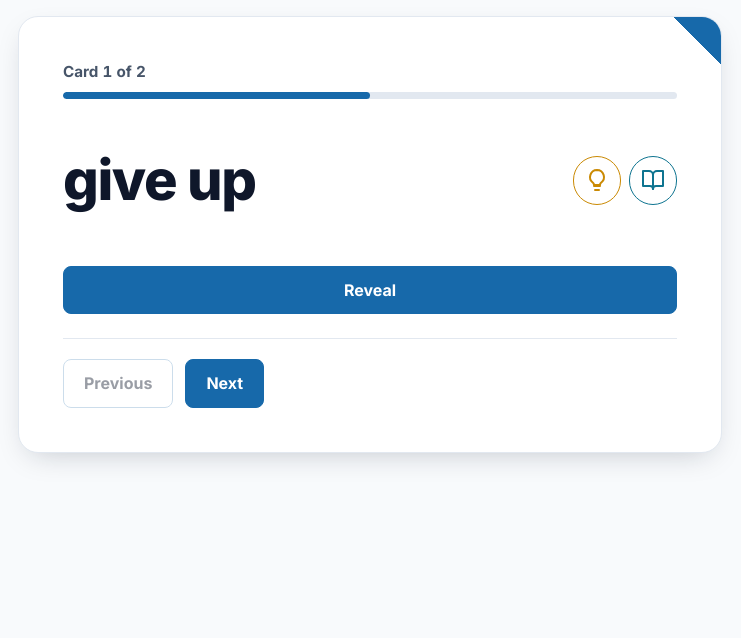
Test: Flashcard › shows session progress
The image size is (741, 638).
expect the text "Card 1 of 2" is shown: met, box x1=63 y1=62 x2=146 y2=81
Click the button "Reveal".
click(370, 290)  # box x1=63 y1=266 x2=677 y2=314
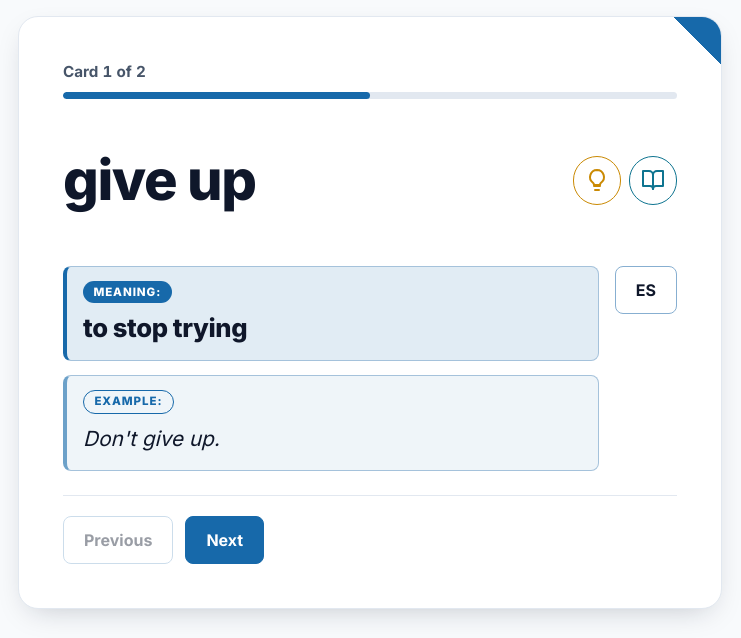
Click the button "Next".
click(225, 540)  # box x1=185 y1=516 x2=264 y2=564
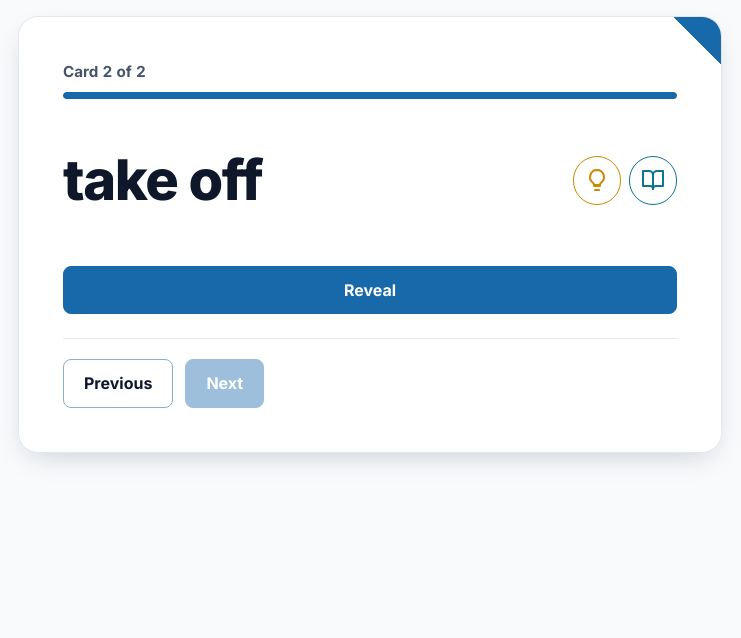
expect the text "Card 2 of 2" is shown: met, box x1=63 y1=62 x2=146 y2=81
